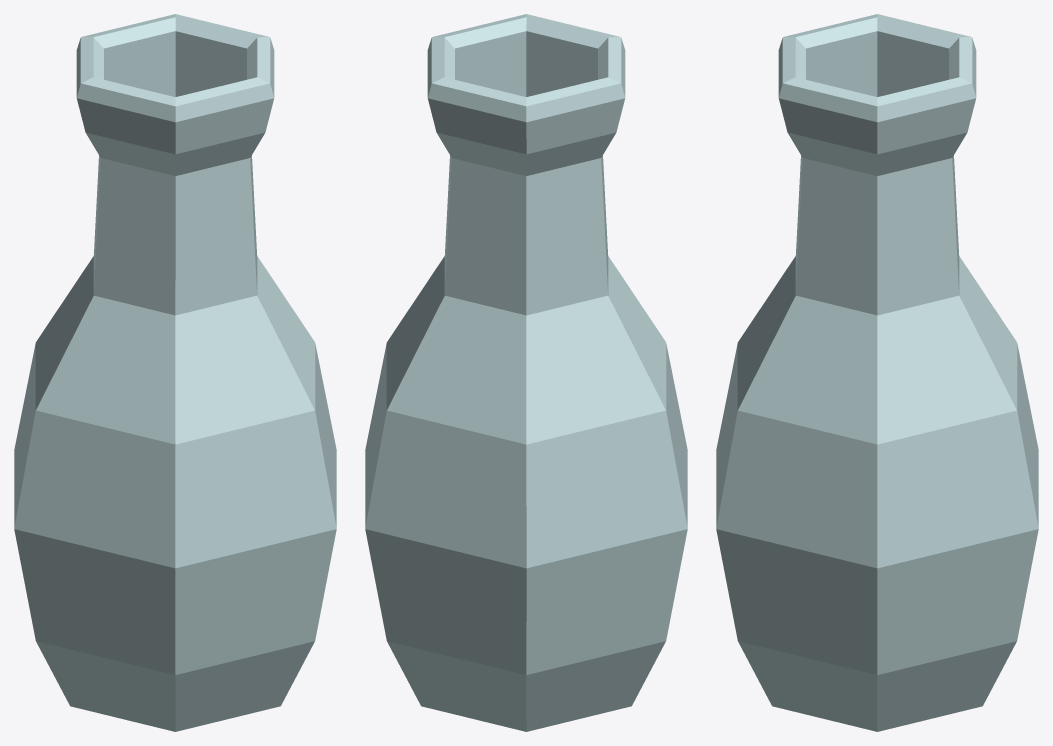
File: Potion4.fbx
The picture shows the model from 3 angles, left to right: view 1: azimuth 30°, elevation 25°; view 2: azimuth 150°, elevation 25°; view 3: azimuth 270°, elevation 25°; orthographic projection.
Visible parts, largest first — view 1: pSphere4; view 2: pSphere4; view 3: pSphere4.
Boxes of the visible parts, box(x1,y1,x2,y2) form: pSphere4: box(14, 14, 336, 731); pSphere4: box(365, 14, 687, 731); pSphere4: box(716, 14, 1038, 731).
Bounding box in the file's own units: 0.0378 × 0.0713 × 0.0327.
